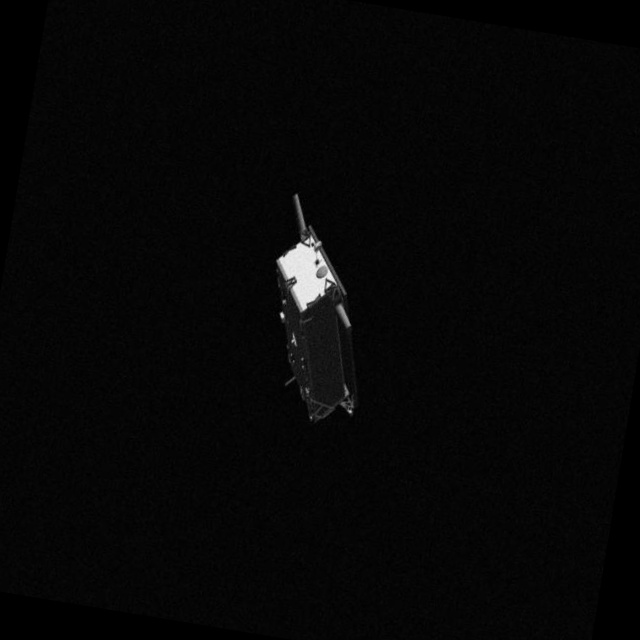satellite: (237, 185, 394, 451)
